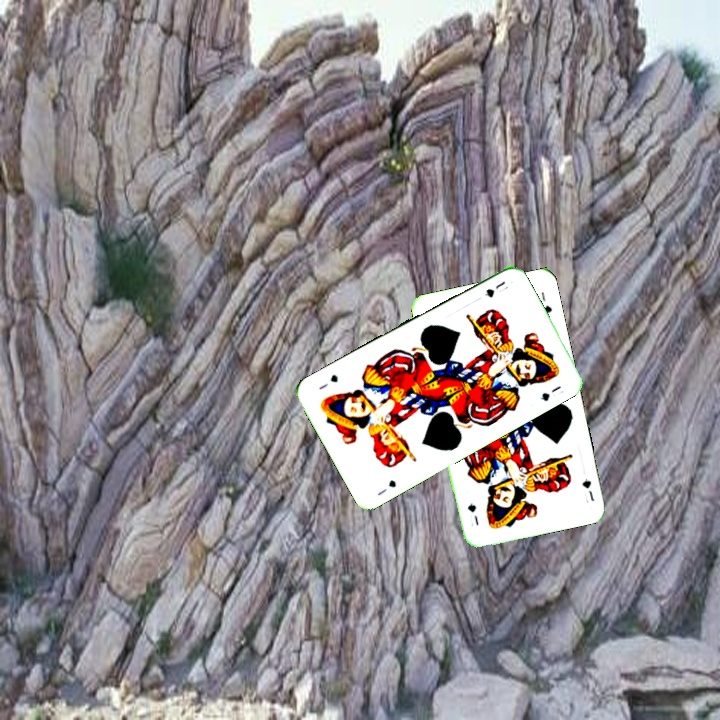GU: (480, 277, 508, 299), (373, 476, 399, 498), (578, 475, 597, 505)
